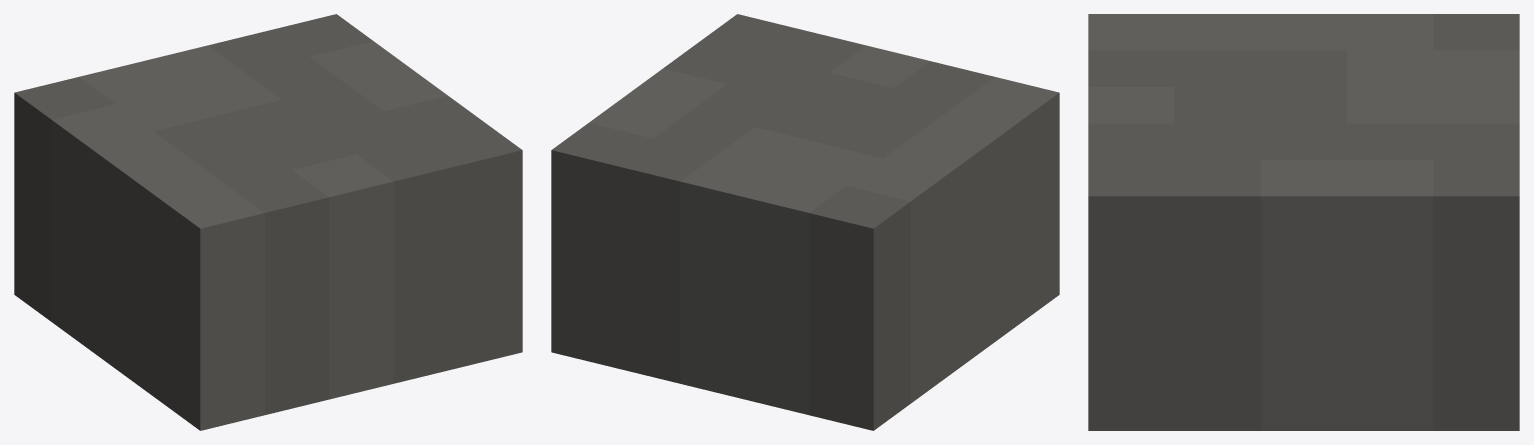
File: tavern-68-floor_cornerstone.obj
3 renders of one model, left to right at view 1: azimuth 30°, elevation 25°; view 2: azimuth 150°, elevation 25°; view 3: azimuth 270°, elevation 25°, orthographic. The views are drawn at different scales.
Parts seen in each view (by area): view 1: floor_cornerstone; view 2: floor_cornerstone; view 3: floor_cornerstone.
Part boxes in pixels (box(x1,y1,x2,y2)): floor_cornerstone: box(14, 14, 522, 430); floor_cornerstone: box(551, 14, 1059, 430); floor_cornerstone: box(1088, 14, 1519, 430).
Bounding box in the file's own units: 0.5 × 0.3 × 0.5.
1 material, 1 textured.
